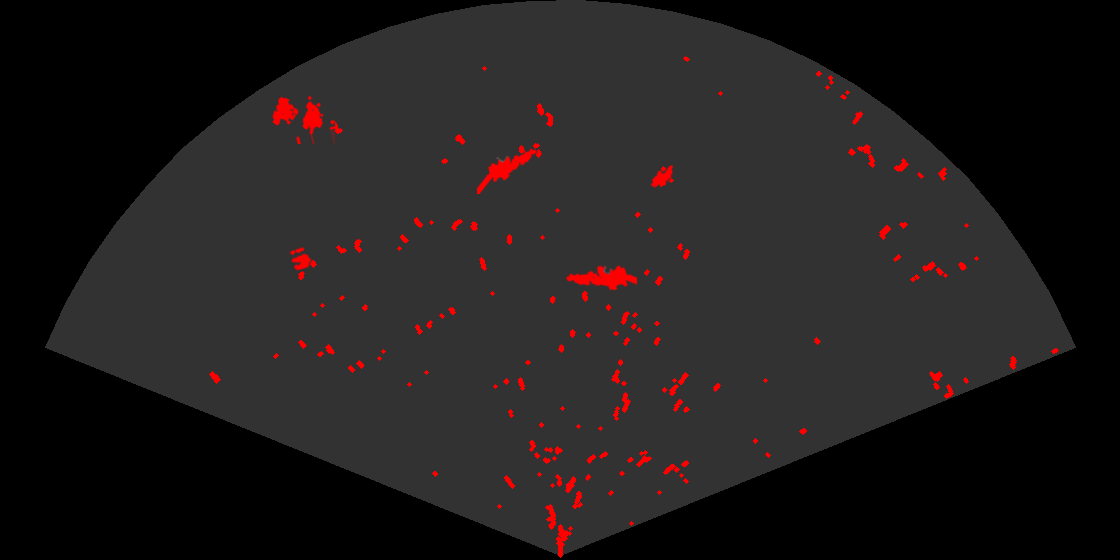AUV: (649, 163, 675, 190)
ball: (288, 245, 313, 272)
cage: (271, 94, 335, 144)
frogman: (477, 147, 538, 194), (564, 264, 637, 292)
